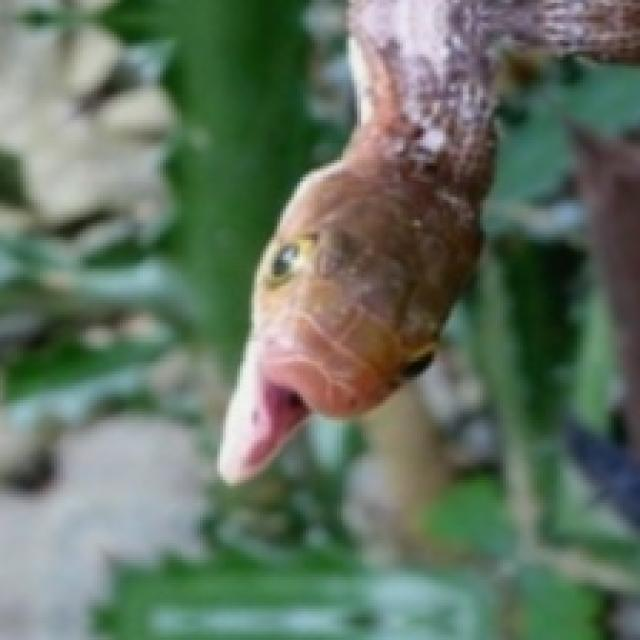reddish rat snake: (217, 0, 637, 480), (580, 137, 637, 443)
